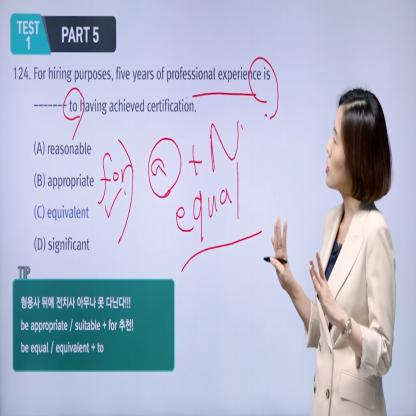streamer: (270, 88, 396, 416)
